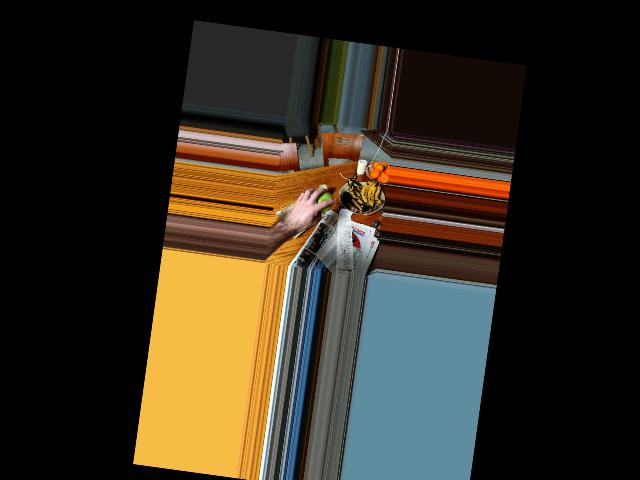apple: (307, 188, 334, 215)
